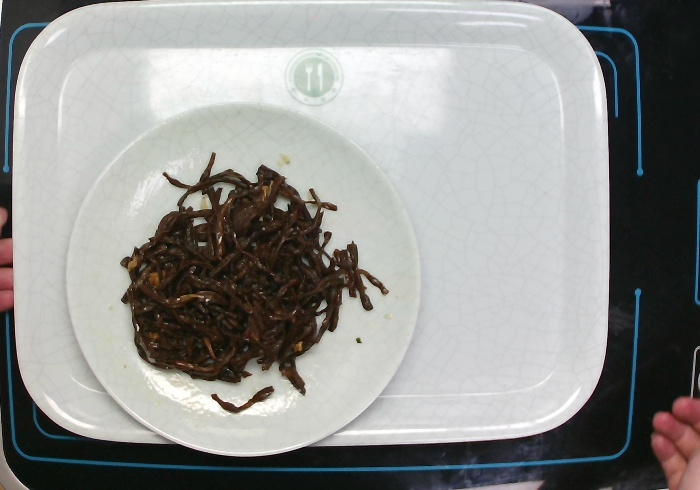JYsf-Da_Yuan_Pan: (61, 97, 424, 460)
